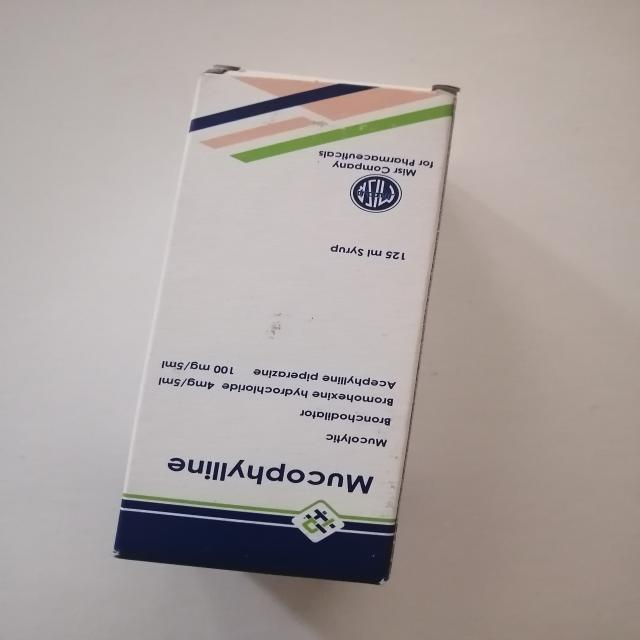Medicine: (106, 61, 463, 588)
